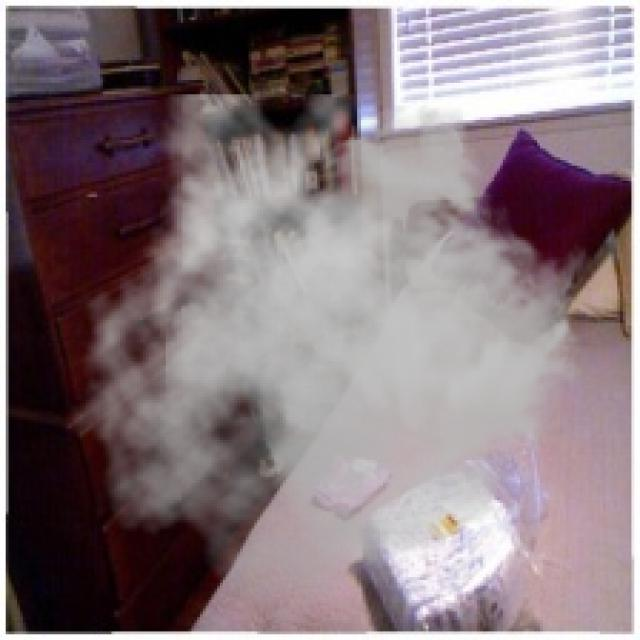smoke: (69, 94, 594, 609)
